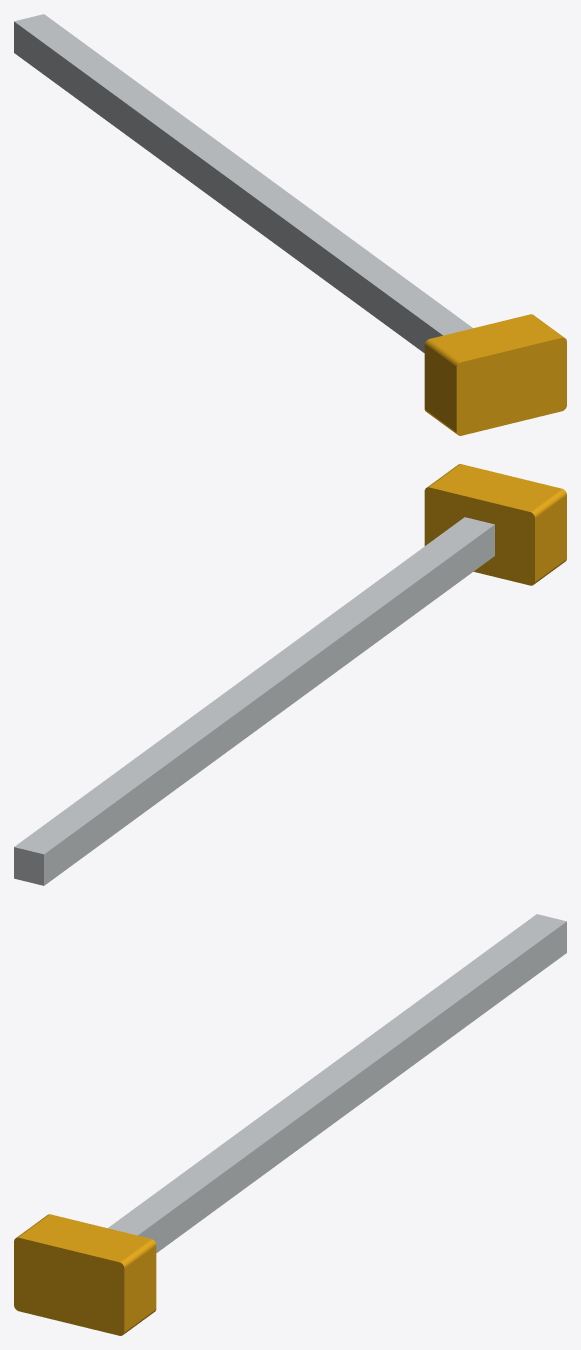
The model's file is picker_x_link.obj.
The picture shows the model from 3 angles, top to bottom: view 1: azimuth 30°, elevation 25°; view 2: azimuth 150°, elevation 25°; view 3: azimuth 330°, elevation 25°; orthographic projection.
Parts seen in each view (by area): view 1: column_1, carriage_0; view 2: column_1, carriage_0; view 3: column_1, carriage_0.
Part boxes in pixels (x1,y1,x2,y2): column_1: (14, 14, 472, 352); carriage_0: (424, 314, 566, 435); column_1: (14, 517, 494, 885); carriage_0: (424, 464, 566, 585); column_1: (108, 914, 566, 1252); carriage_0: (14, 1214, 156, 1335).
Size of the model in its own units: 0.22 by 0.14 by 1.67.
